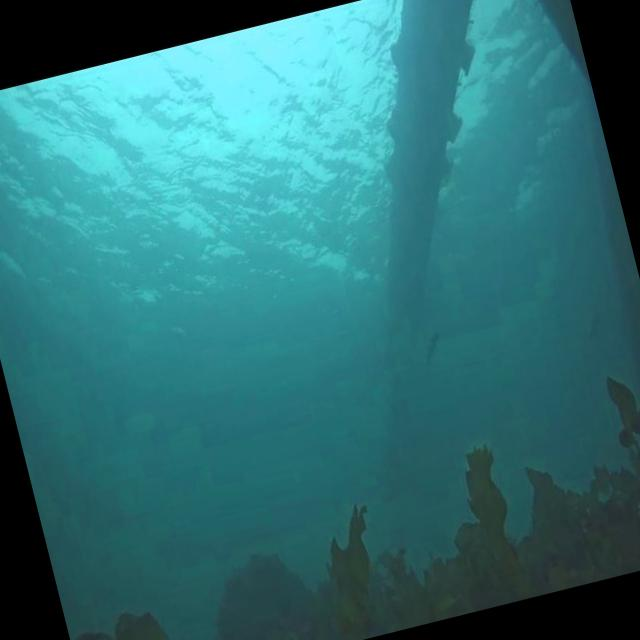fish: (580, 304, 610, 348), (416, 329, 446, 367)
